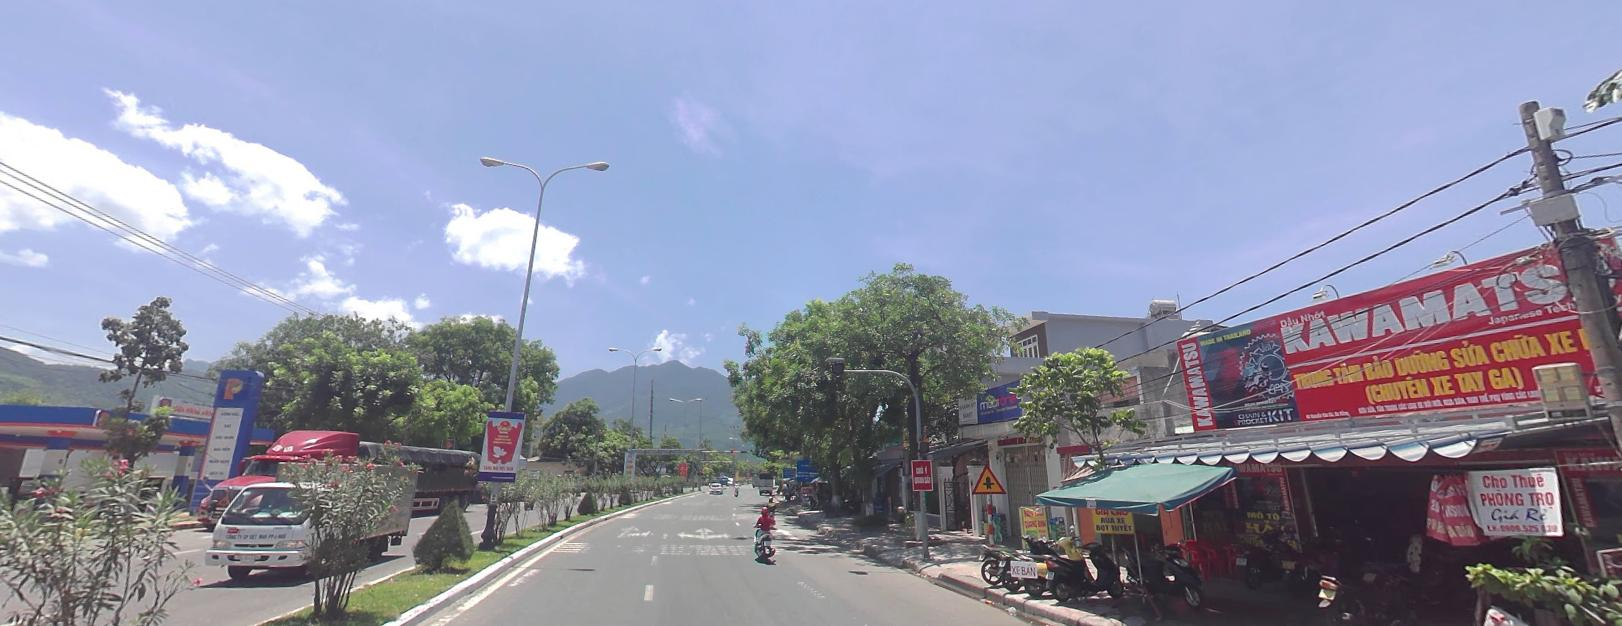Nguy hiem: (966, 460, 1010, 498)
